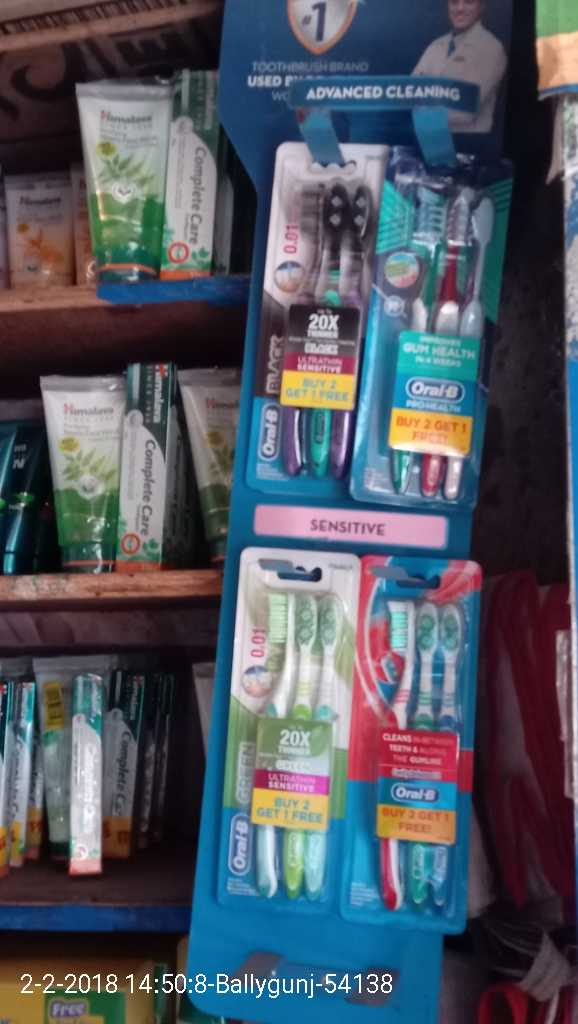oralb: (374, 177, 502, 494), (239, 558, 354, 902), (370, 569, 463, 927), (282, 169, 363, 474)
